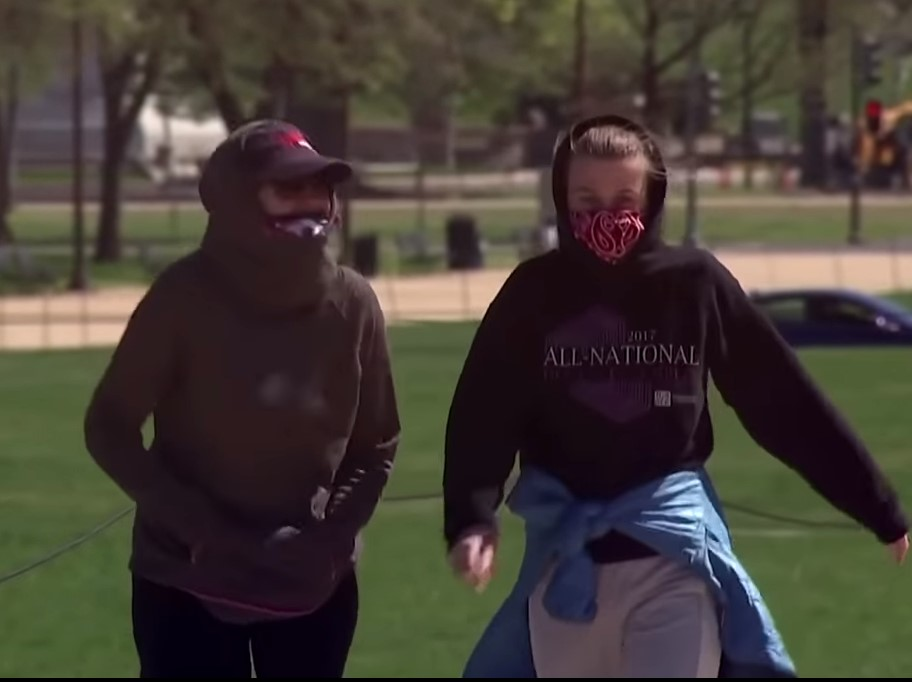face_with_mask: (546, 114, 669, 272), (225, 113, 335, 275)
